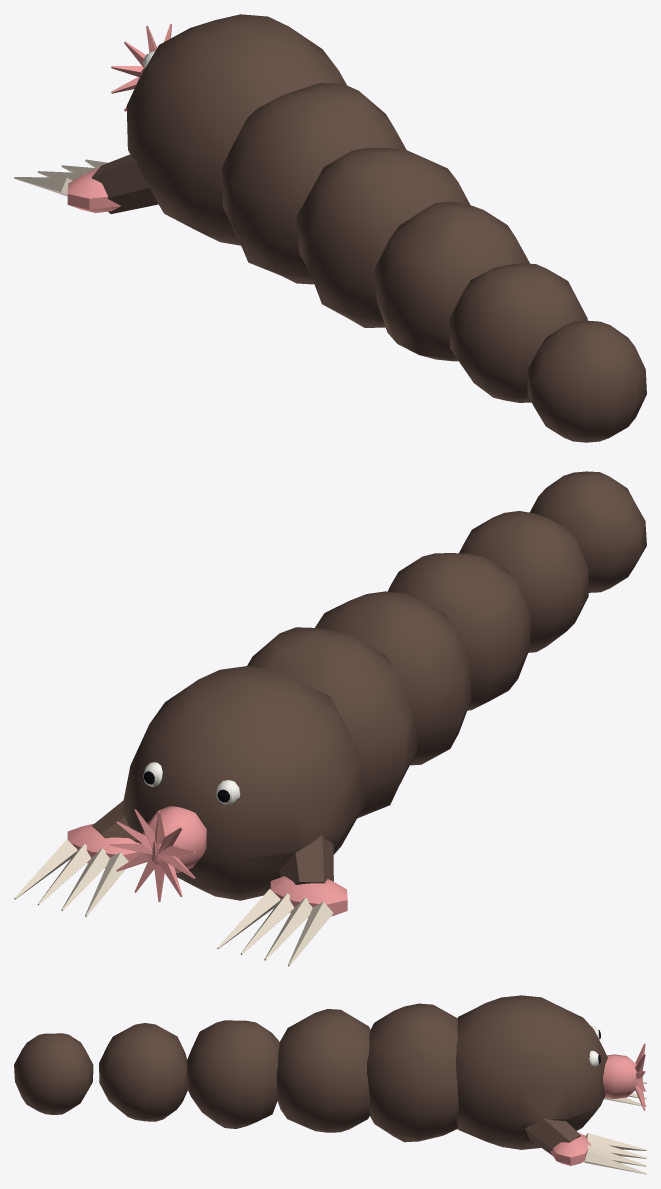
File: TunnelMole.fbx
3 renders of one model, top to bottom at view 1: azimuth 30°, elevation 25°; view 2: azimuth 150°, elevation 25°; view 3: azimuth 270°, elevation 25°, orthographic. The views are drawn at different scales.
Visible parts, largest first — view 1: Head_Fur, Seg1_Fur, Seg2_Fur, Seg3_Fur, Seg4_Fur, Seg5_Fur, Head_Snout, Head_Claw; view 2: Head_Fur, Seg1_Fur, Seg2_Fur, Seg3_Fur, Seg4_Fur, Seg5_Fur, Head_Snout, Head_Claw; view 3: Head_Fur, Seg1_Fur, Seg2_Fur, Seg3_Fur, Seg4_Fur, Seg5_Fur, Head_Snout, Head_Claw.
Boxes of the visible parts, left/top/right/bottom form: Head_Fur: left=92, top=14, right=346, bottom=245; Seg1_Fur: left=222, top=83, right=406, bottom=284; Seg2_Fur: left=296, top=148, right=470, bottom=327; Seg3_Fur: left=375, top=201, right=529, bottom=361; Seg4_Fur: left=449, top=263, right=587, bottom=402; Seg5_Fur: left=527, top=320, right=646, bottom=442; Head_Snout: left=67, top=23, right=171, bottom=212; Head_Claw: left=14, top=159, right=107, bottom=196; Head_Fur: left=92, top=666, right=365, bottom=900; Seg1_Fur: left=247, top=627, right=417, bottom=818; Seg2_Fur: left=315, top=591, right=471, bottom=765; Seg3_Fur: left=387, top=553, right=530, bottom=710; Seg4_Fur: left=459, top=511, right=588, bottom=652; Seg5_Fur: left=529, top=471, right=646, bottom=592; Head_Snout: left=67, top=806, right=347, bottom=917; Head_Claw: left=14, top=839, right=333, bottom=966; Head_Fur: left=456, top=995, right=607, bottom=1155; Seg1_Fur: left=367, top=1003, right=458, bottom=1142; Seg2_Fur: left=276, top=1009, right=370, bottom=1132; Seg3_Fur: left=187, top=1020, right=279, bottom=1128; Seg4_Fur: left=99, top=1023, right=187, bottom=1121; Seg5_Fur: left=14, top=1033, right=93, bottom=1114; Head_Snout: left=550, top=1043, right=645, bottom=1165; Head_Claw: left=584, top=1081, right=646, bottom=1174.
Size of the model in its own units: 5.8 by 4.07 by 16.65.
